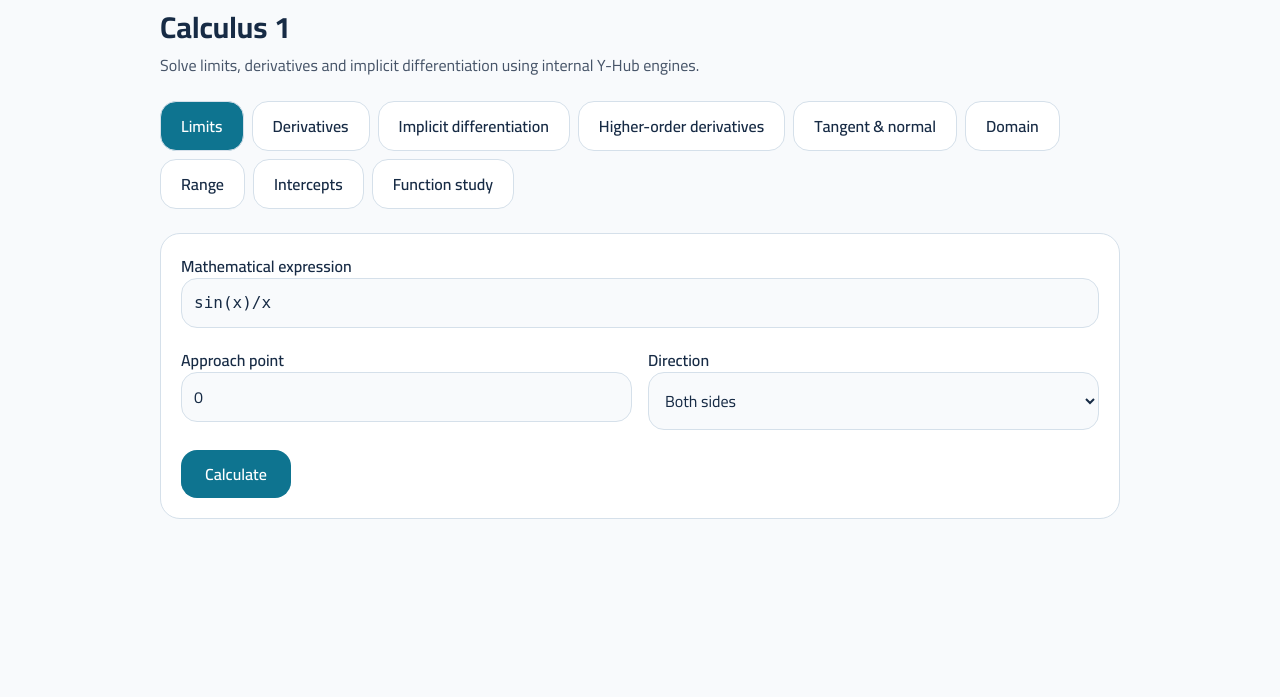
it: Tangent and normal UI › solves tangent and normal lines
What coordinates should you click on to do the following:
click the tab "Tangent & normal"
I would click on:
 (875, 126)
Its box is [793, 101, 957, 151].
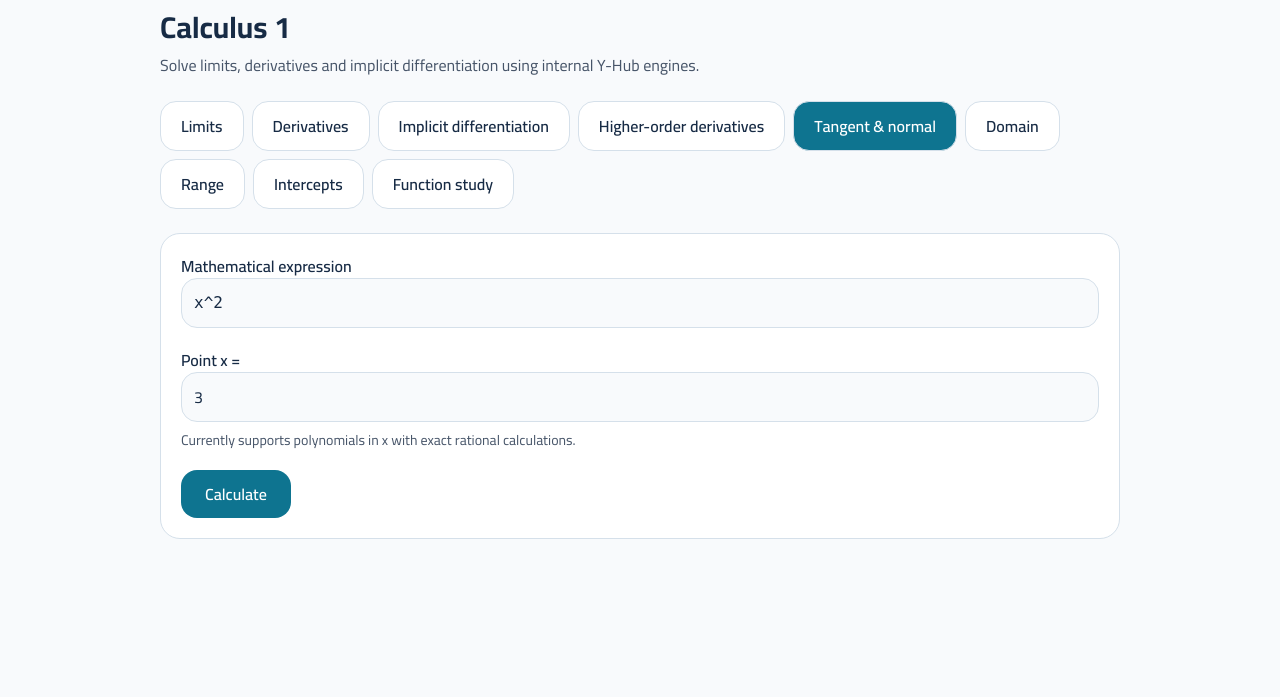
Now the field labelled "Point x =" holds "3", box [181, 372, 1099, 422]
What coordinates should you click on to do the following:
click the button "Calculate"
I would click on:
 (236, 494)
Its box is [181, 470, 291, 518].
(page scrolled)
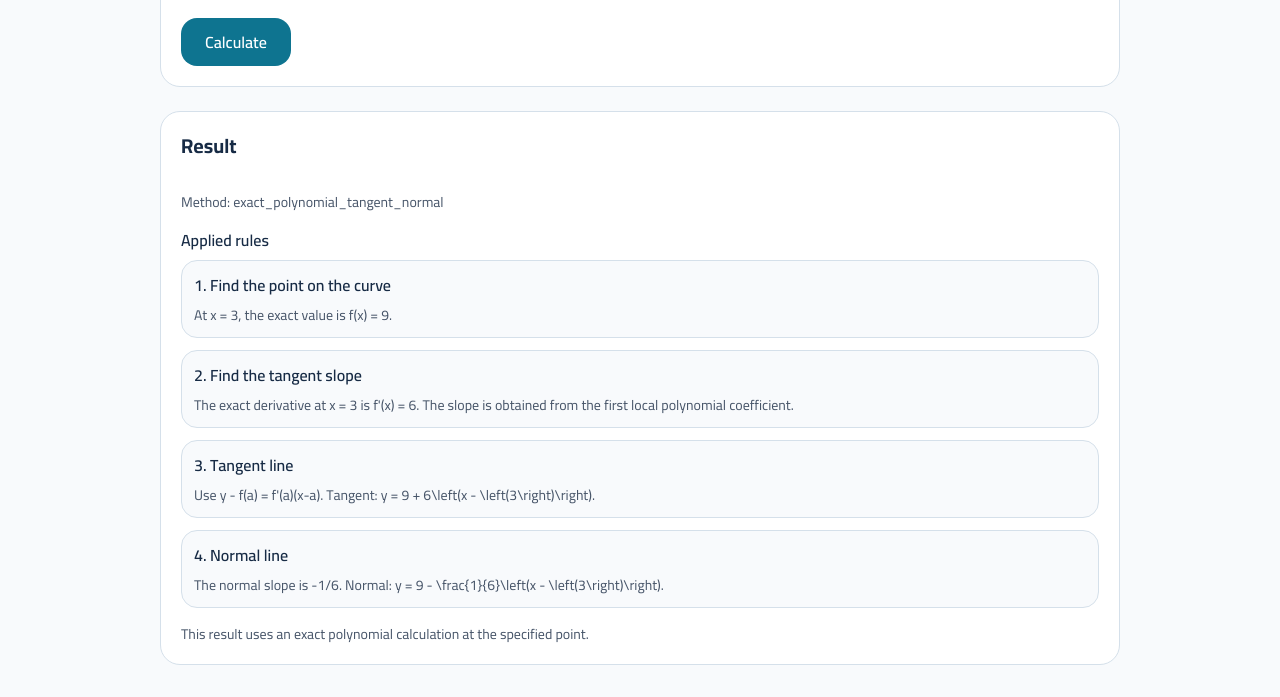
Now the text "Method: exact_polynomial_tangent_normal" is shown, box [181, 189, 444, 215]
Now the heading "3. Tangent line" is shown, box [194, 450, 294, 480]
